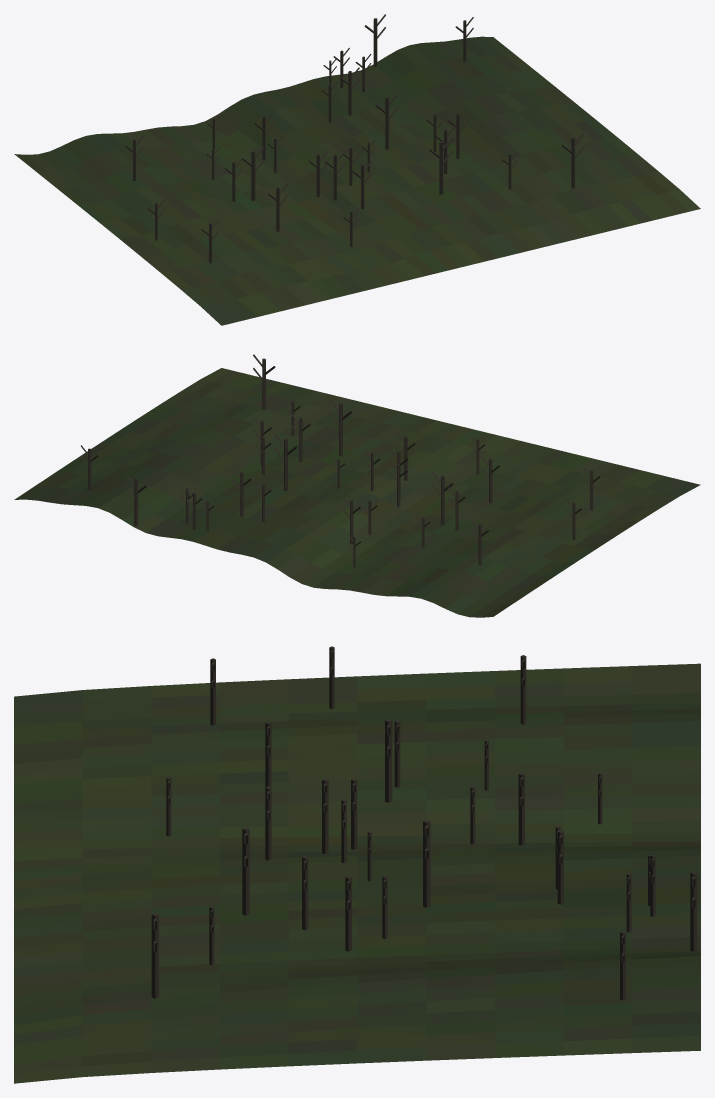
Rendered from bg_swamp_ridge_2_idle.glb.
The picture shows the model from 3 angles, top to bottom: view 1: azimuth 30°, elevation 25°; view 2: azimuth 150°, elevation 25°; view 3: azimuth 270°, elevation 25°; orthographic projection. The views are drawn at different scales.
Parts seen in each view (by area): view 1: ridge.001; view 2: ridge.001; view 3: ridge.001.
Boxes of the visible parts, bbox=[...] form: ridge.001: bbox=[14, 14, 700, 325]; ridge.001: bbox=[14, 354, 700, 617]; ridge.001: bbox=[14, 646, 700, 1083].
Bounding box in the file's own units: 40 × 5.69 × 30.
